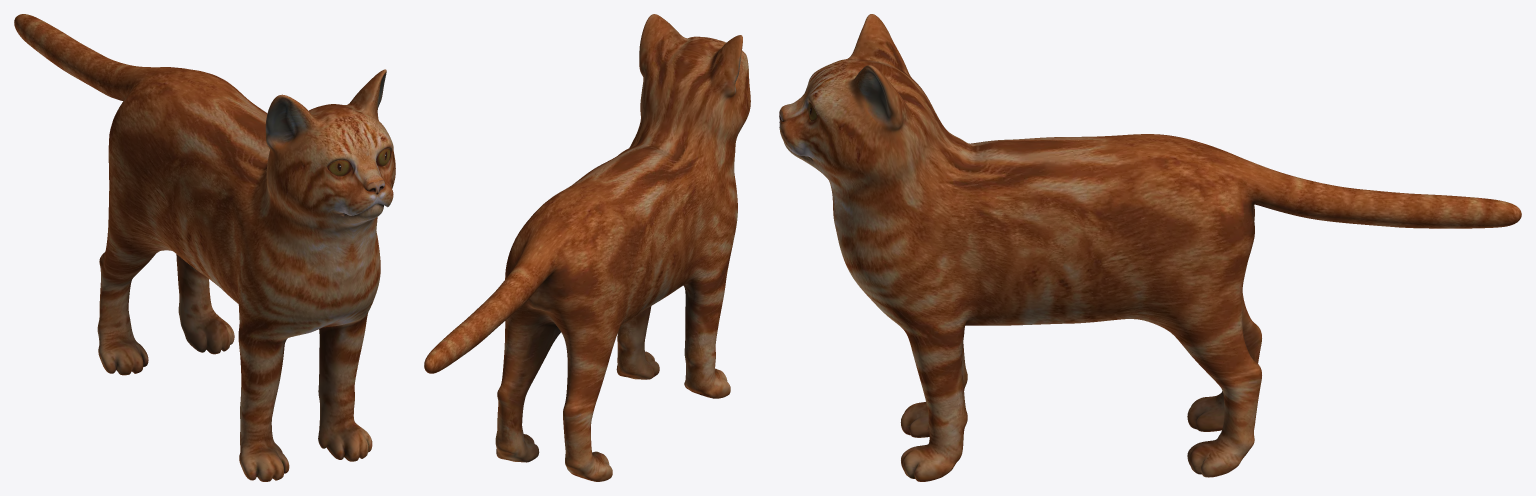
File: cat1-transformed.glb
The picture shows the model from 3 angles, left to right: view 1: azimuth 30°, elevation 25°; view 2: azimuth 150°, elevation 25°; view 3: azimuth 270°, elevation 25°; orthographic projection. The views are drawn at different scales.
Visible parts, largest first — view 1: Cat 3d; view 2: Cat 3d; view 3: Cat 3d.
Boxes of the visible parts, bbox=[...] form: Cat 3d: bbox=[14, 14, 395, 481]; Cat 3d: bbox=[424, 14, 750, 481]; Cat 3d: bbox=[779, 14, 1521, 481].
Bounding box in the file's own units: 12.55 × 37.54 × 61.08.
1 material, 1 textured.
